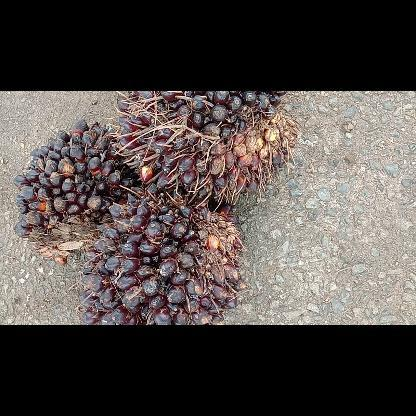TBS mentah: (78, 184, 246, 324), (118, 91, 298, 197), (13, 119, 133, 262)
